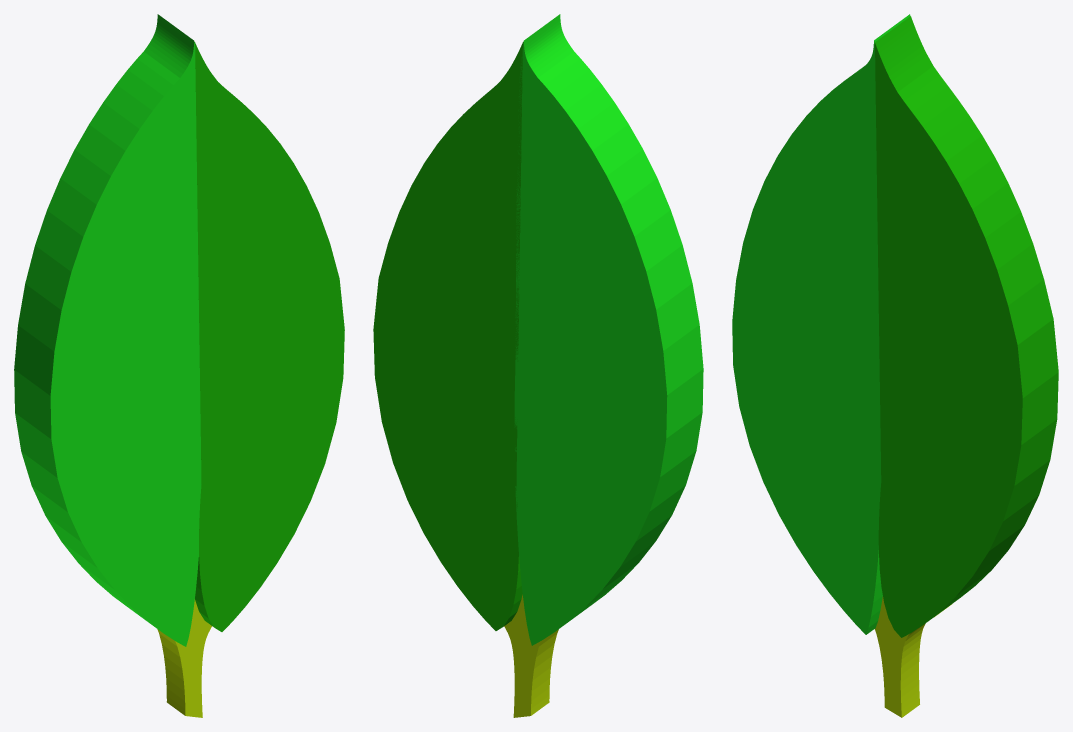
The model's file is expressjs.glb.
3 renders of one model, left to right at view 1: azimuth 30°, elevation 25°; view 2: azimuth 150°, elevation 25°; view 3: azimuth 330°, elevation 25°, orthographic.
Visible parts, largest first — view 1: Shape.001; view 2: Shape.001; view 3: Shape.001.
Boxes of the visible parts, bbox=[...] form: Shape.001: bbox=[14, 14, 344, 717]; Shape.001: bbox=[373, 14, 703, 717]; Shape.001: bbox=[732, 14, 1058, 717].
Bounding box in the file's own units: 0.07 × 0.1566 × 0.015.
